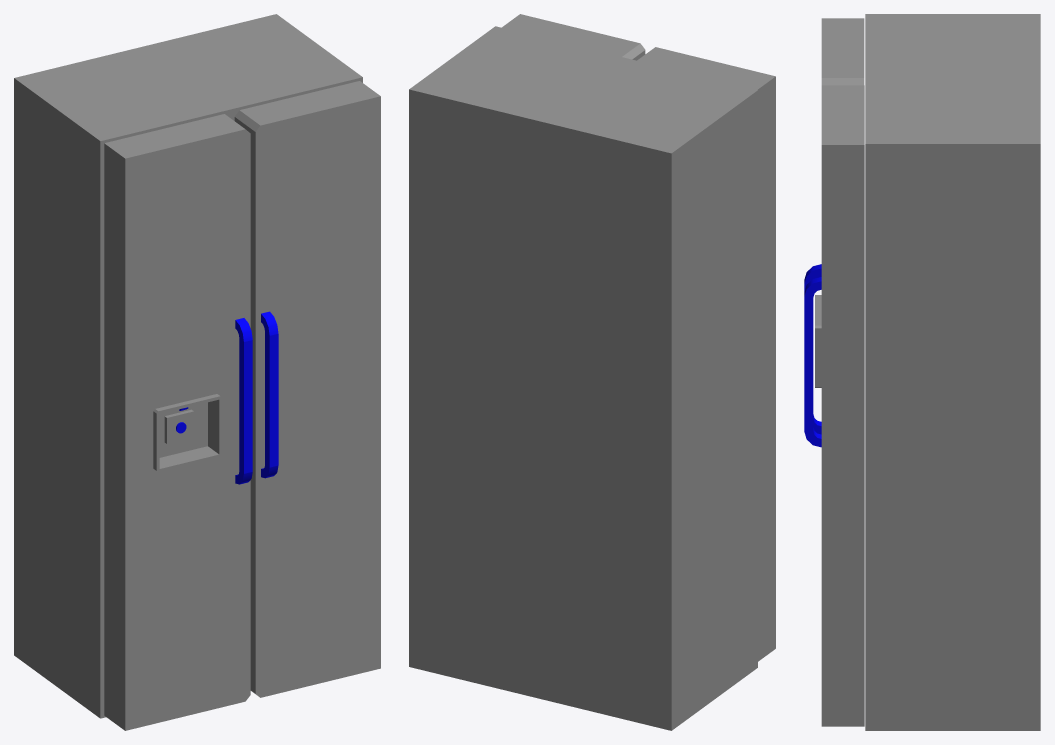
The model's file is Fridge.FBX.
3 views of the same model, side by side, from view 1: azimuth 30°, elevation 25°; view 2: azimuth 150°, elevation 25°; view 3: azimuth 270°, elevation 25° (orthographic).
Parts seen in each view (by area): view 1: LeftDoor, Body, RightDoor, LeftHandle, RightHandle; view 2: Body, LeftDoor, RightDoor; view 3: Body, RightDoor, LeftDoor, RightHandle.
Boxes of the visible parts, left/top/right/bottom form: LeftDoor: left=104, top=114, right=250, bottom=730; Body: left=14, top=14, right=362, bottom=718; RightDoor: left=234, top=81, right=380, bottom=697; LeftHandle: left=235, top=318, right=252, bottom=484; RightHandle: left=261, top=311, right=278, bottom=478; Body: left=409, top=26, right=757, bottom=730; LeftDoor: left=637, top=47, right=775, bottom=661; RightDoor: left=502, top=14, right=645, bottom=60; Body: left=865, top=14, right=1040, bottom=730; RightDoor: left=821, top=85, right=864, bottom=726; LeftDoor: left=815, top=18, right=864, bottom=387; RightHandle: left=804, top=277, right=821, bottom=447.
Bounding box in the file's own units: 83.24 × 63.91 × 175.
